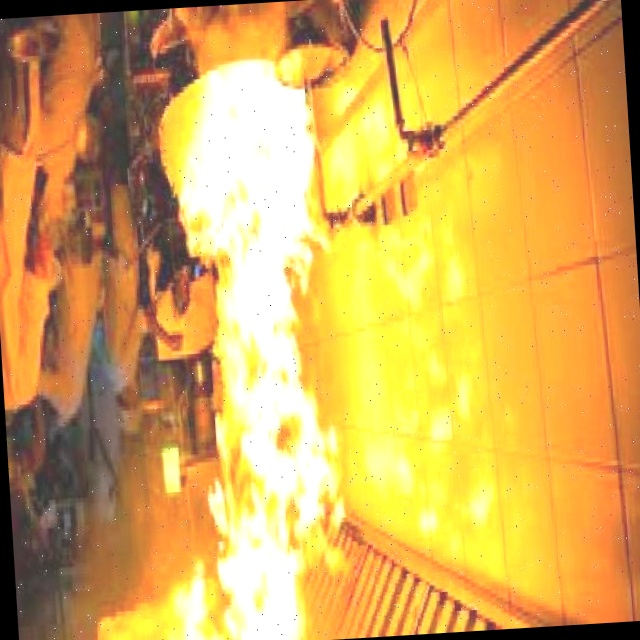fire: (128, 56, 355, 640)
